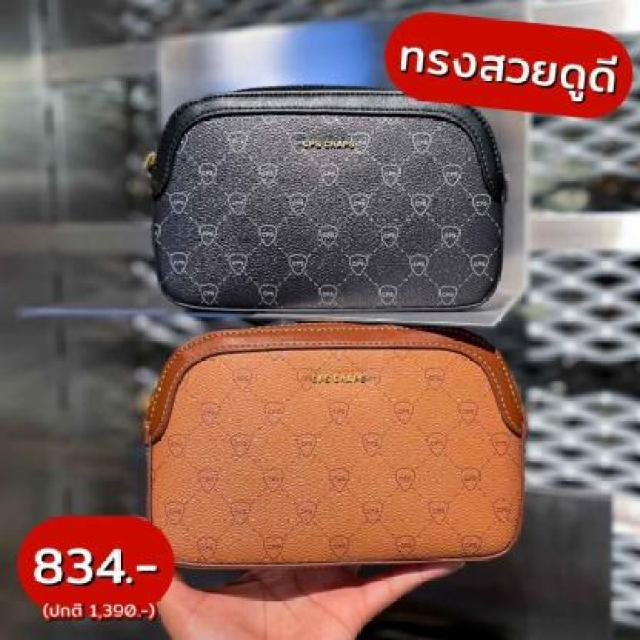Bag: (93, 52, 596, 396), (118, 300, 582, 589)
